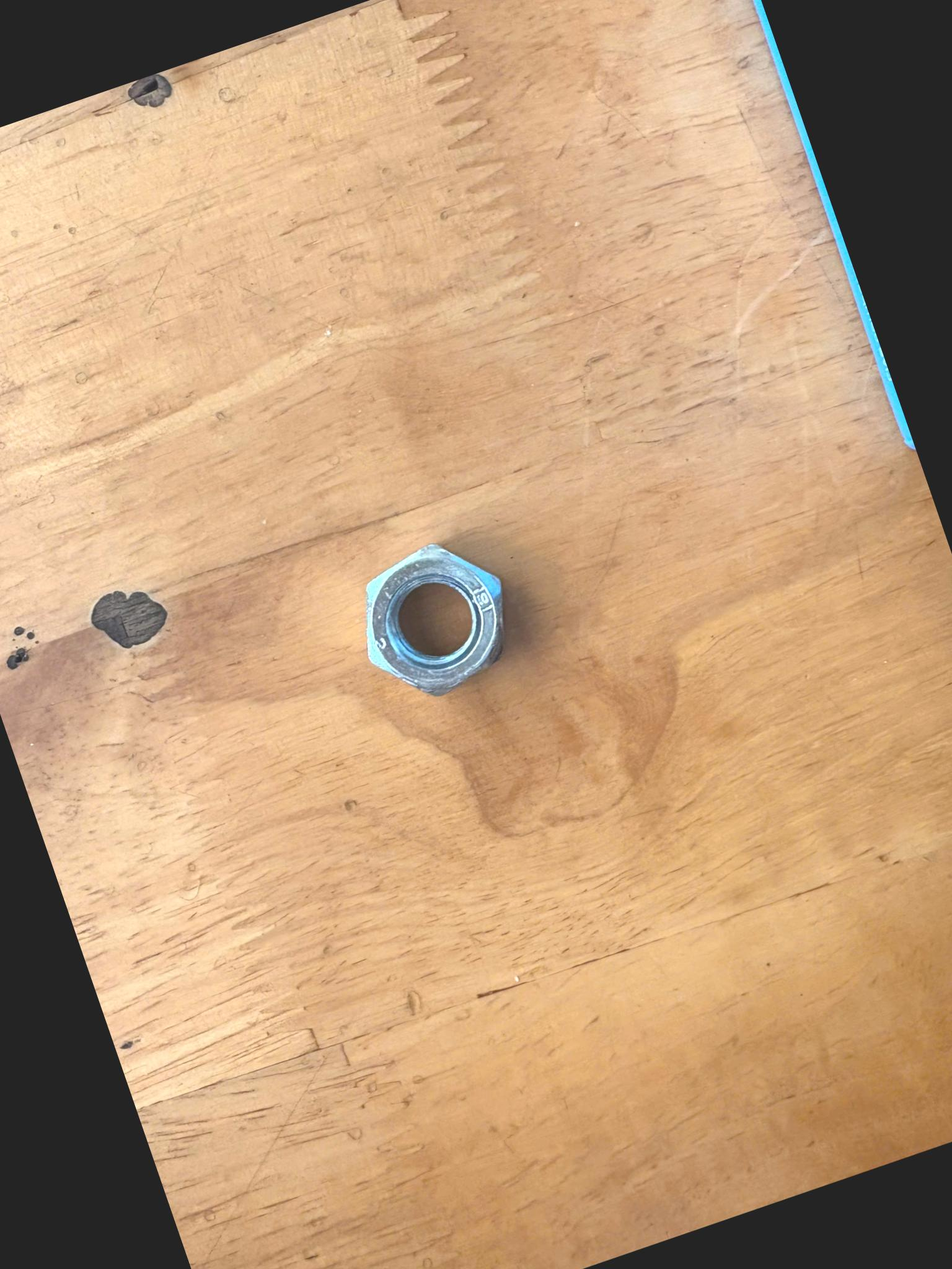nut: (324, 494, 560, 733)
